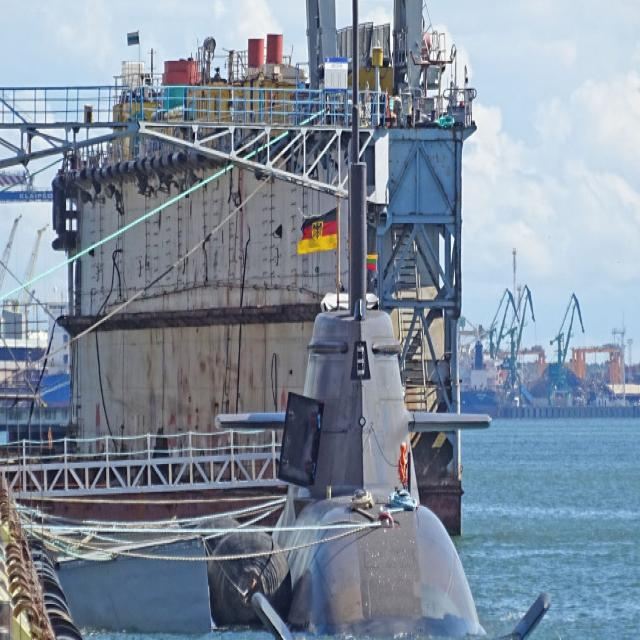submarine: (211, 1, 564, 640)
